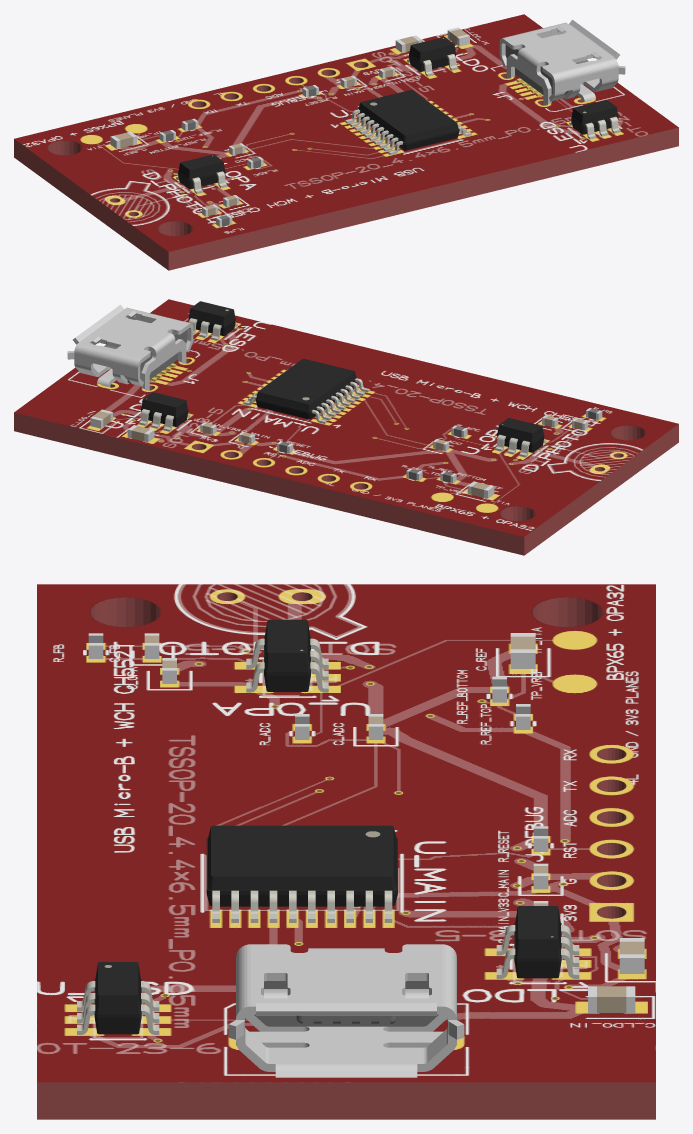
The picture shows the model from 3 angles, top to bottom: view 1: azimuth 30°, elevation 25°; view 2: azimuth 150°, elevation 25°; view 3: azimuth 270°, elevation 25°; orthographic projection. The views are drawn at different scales.
Parts seen in each view (by area): view 1: Box0, J1, U_MAIN, U_ESD, U_LDO, U_OPA; view 2: Box0, J1, U_MAIN, U_OPA, U_LDO, U_ESD; view 3: Box0, J1, U_MAIN, U_ESD, U_LDO, U_OPA, C_LDO_IN, C_LDO_OUT, C_REF.
Boxes of the visible parts, <box> form: Box0: <box>14,14,678,270</box>; J1: <box>499,20,625,105</box>; U_MAIN: <box>345,90,471,154</box>; U_ESD: <box>569,100,620,139</box>; U_LDO: <box>407,37,458,76</box>; U_OPA: <box>176,154,227,193</box>; Box0: <box>14,299,678,555</box>; J1: <box>67,305,193,390</box>; U_MAIN: <box>243,358,369,423</box>; U_OPA: <box>495,418,546,457</box>; U_LDO: <box>139,392,190,431</box>; U_ESD: <box>188,301,237,340</box>; Box0: <box>37,584,655,1119</box>; J1: <box>228,944,464,1077</box>; U_MAIN: <box>206,825,397,922</box>; U_ESD: <box>77,962,159,1034</box>; U_LDO: <box>496,906,579,978</box>; U_OPA: <box>246,619,328,692</box>; C_LDO_IN: <box>588,986,635,1012</box>; C_LDO_OUT: <box>619,938,644,973</box>; C_REF: <box>510,633,535,668</box>.
Size of the model in its own units: 40 by 4.13 by 21.
13 materials, 2 textured.
